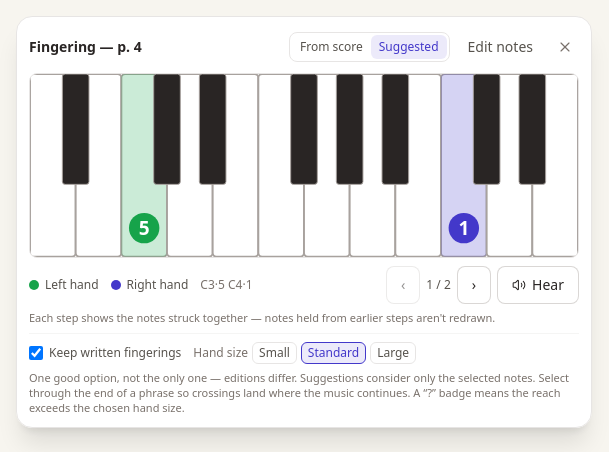
FingeringDiagramPanel › steps through the phrase
Expected: the button named "Previous step" is disabled, [386, 266, 420, 304]
Click the button named "Next step".
click(474, 284)  # box [457, 266, 491, 304]
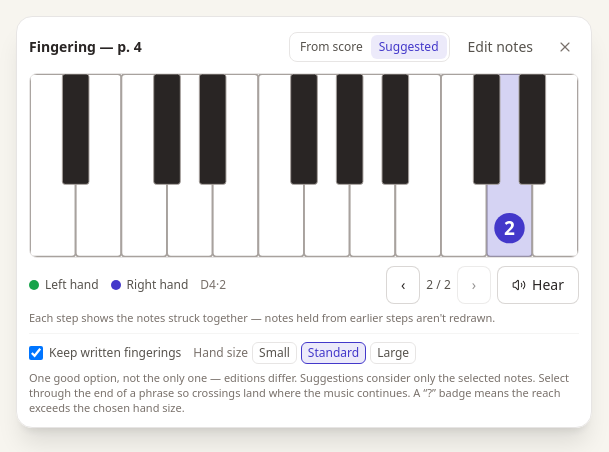
Expected: the field labelled "D4, Right hand, finger 2" is shown, [504, 215, 515, 241]
Now the text "2 / 2" is shown, box [426, 276, 451, 292]
